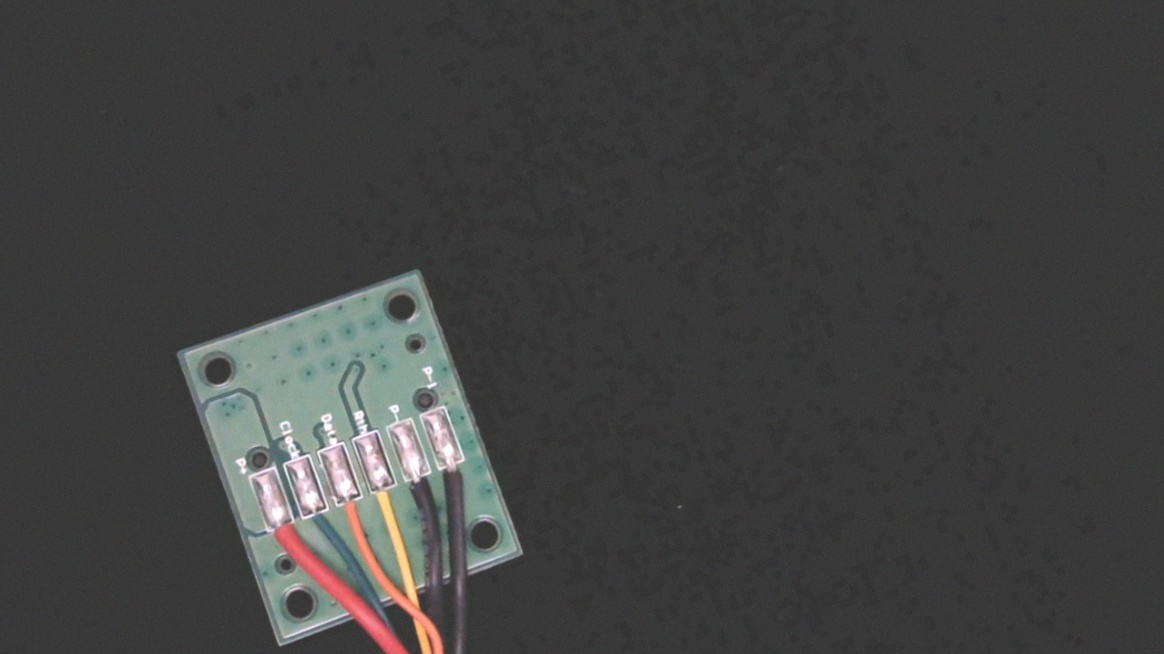Black: (398, 458, 447, 526)
Black1: (433, 443, 484, 511)
Green: (295, 491, 343, 555)
Orange: (329, 480, 380, 553)
Red: (260, 504, 307, 565)
Yellow: (363, 468, 417, 543)
